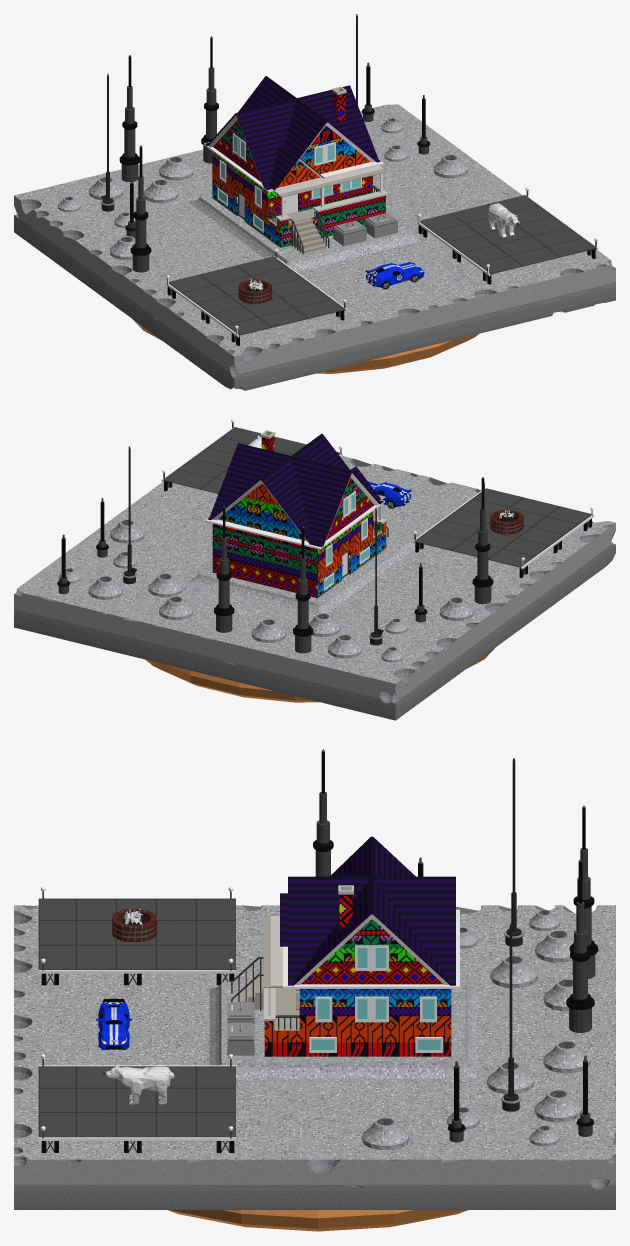
3 renders of one model, top to bottom at view 1: azimuth 30°, elevation 25°; view 2: azimuth 150°, elevation 25°; view 3: azimuth 270°, elevation 25°, orthographic. The views are drawn at different scales.
Parts seen in each view (by area): view 1: Cube.027, Cube.966, Cube.026, Cube.025, Cube.028, UNDERGROUND_PIZZA, Cylinder.021, Cylinder.020, VEHICLES_RACING_CAR, Cylinder.017, OBJRANDOM_CAMPFIRE, ANIMAL_OSO_POLAR (+6 smaller); view 2: Cube.027, Cube.966, Cube.025, Cube.028, Cube.026, UNDERGROUND_PIZZA, Cylinder.021, Cylinder.020, Cylinder.017, OBJRANDOM_CAMPFIRE, VEHICLES_RACING_CAR, Cylinder.030 (+9 smaller); view 3: Cube.027, Cube.966, Cube.025, Cube.026, Cube.028, UNDERGROUND_PIZZA, Cylinder.017, ANIMAL_OSO_POLAR, VEHICLES_RACING_CAR, OBJRANDOM_CAMPFIRE, Cylinder.020, Cylinder.021 (+11 smaller).
Boxes of the visible parts, bbox=[...] form: Cube.027: bbox=[14, 104, 615, 390]; Cube.966: bbox=[203, 76, 388, 254]; Cube.026: bbox=[417, 187, 598, 284]; Cube.025: bbox=[165, 249, 347, 345]; Cube.028: bbox=[190, 193, 420, 271]; UNDERGROUND_PIZZA: bbox=[132, 319, 478, 373]; Cylinder.021: bbox=[130, 145, 151, 272]; Cylinder.020: bbox=[119, 55, 139, 181]; VEHICLES_RACING_CAR: bbox=[365, 262, 424, 289]; Cylinder.017: bbox=[201, 36, 218, 163]; OBJRANDOM_CAMPFIRE: bbox=[238, 278, 272, 303]; ANIMAL_OSO_POLAR: bbox=[488, 203, 519, 238]; Cube.027: bbox=[14, 456, 615, 720]; Cube.966: bbox=[205, 430, 388, 598]; Cube.025: bbox=[413, 481, 594, 577]; Cube.028: bbox=[188, 533, 415, 614]; Cube.026: bbox=[161, 419, 342, 493]; UNDERGROUND_PIZZA: bbox=[145, 648, 494, 702]; Cylinder.021: bbox=[472, 477, 493, 604]; Cylinder.020: bbox=[293, 526, 313, 653]; Cylinder.017: bbox=[214, 505, 234, 632]; OBJRANDOM_CAMPFIRE: bbox=[490, 509, 523, 534]; VEHICLES_RACING_CAR: bbox=[368, 481, 411, 508]; Cylinder.030: bbox=[148, 573, 182, 597]; Cube.027: bbox=[14, 905, 615, 1209]; Cube.966: bbox=[231, 836, 459, 1056]; Cube.025: bbox=[38, 886, 235, 985]; Cube.026: bbox=[38, 1054, 235, 1152]; Cube.028: bbox=[209, 981, 477, 1078]; UNDERGROUND_PIZZA: bbox=[167, 1210, 467, 1231]; Cylinder.017: bbox=[566, 859, 594, 1032]; ANIMAL_OSO_POLAR: bbox=[102, 1064, 174, 1104]; VEHICLES_RACING_CAR: bbox=[96, 998, 131, 1049]; OBJRANDOM_CAMPFIRE: bbox=[112, 906, 156, 941]; Cylinder.020: bbox=[569, 806, 598, 978]; Cylinder.021: bbox=[313, 749, 333, 876].
Bounding box in the file's own units: 4000 × 2011 × 4000.
Materials: 44 (8 with a texture image).
